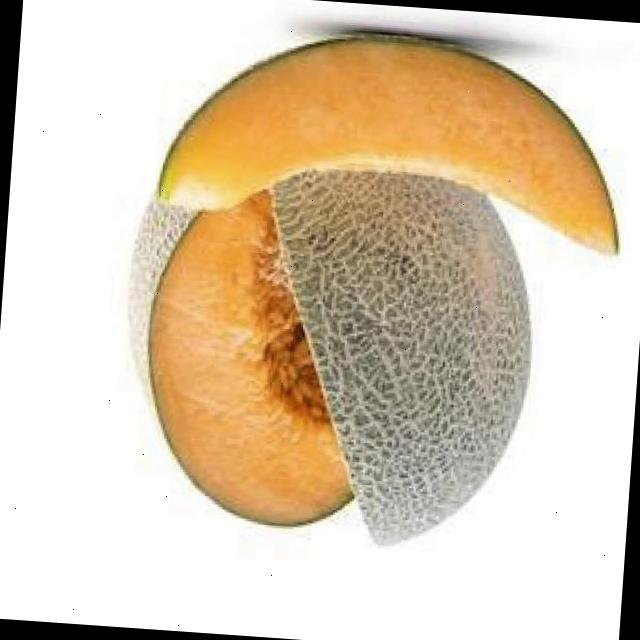Hami Melon: (108, 157, 542, 556), (150, 20, 631, 258)
